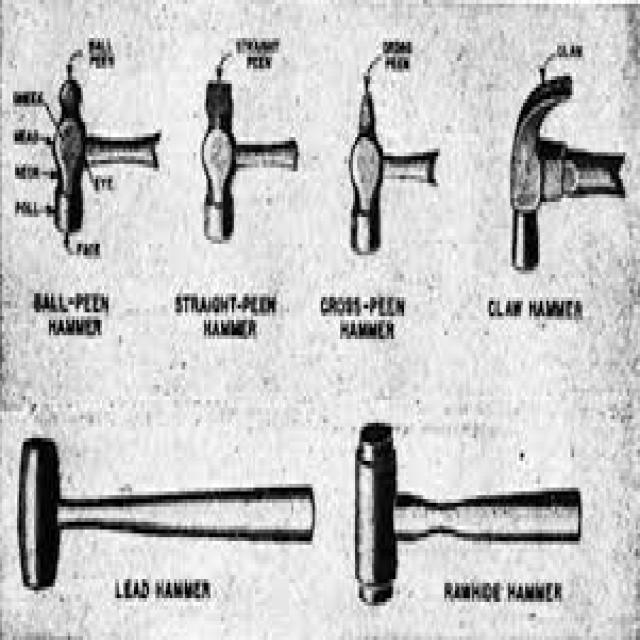Palu: (13, 428, 318, 612), (349, 416, 583, 614), (494, 58, 628, 272), (200, 56, 302, 252), (343, 92, 442, 262)
